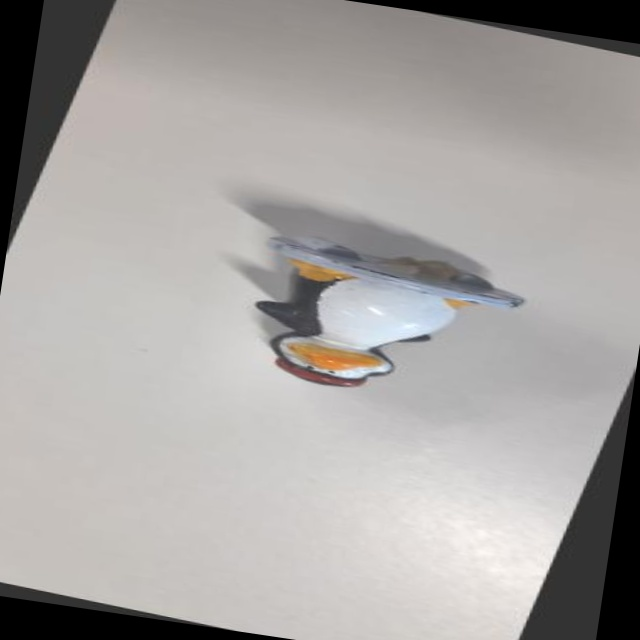Penguin: (212, 222, 528, 427)
